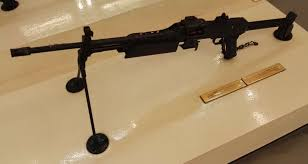gun: (8, 10, 298, 75)
